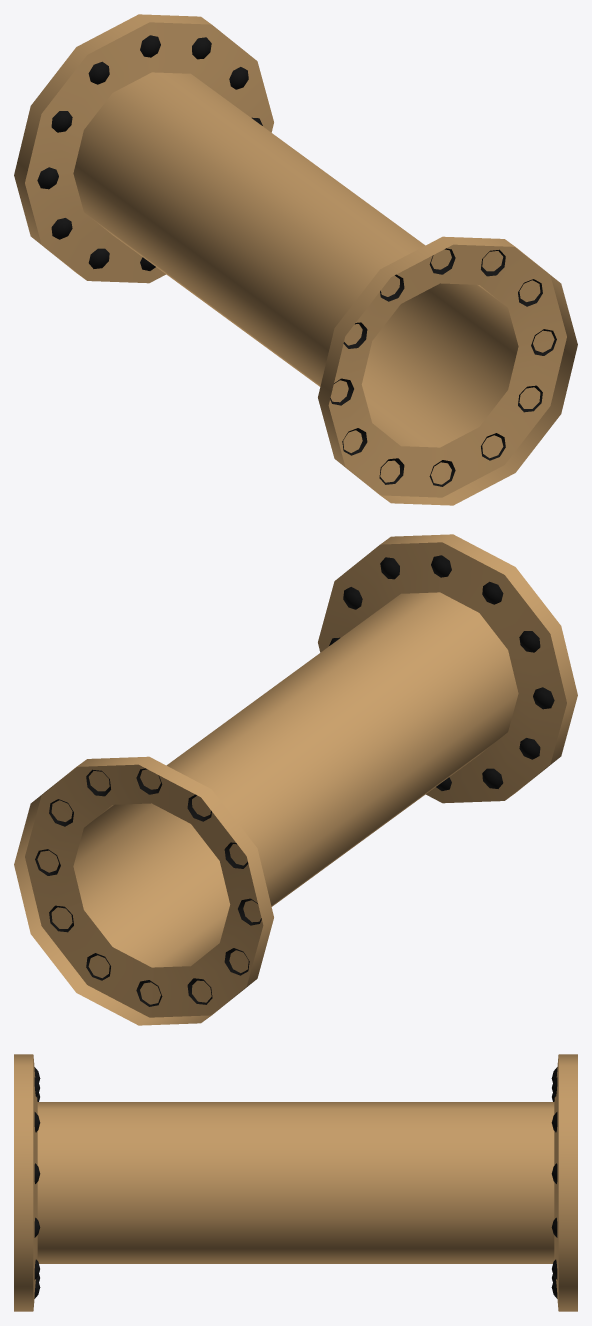
File: straightPipe_mesh.fbx
The picture shows the model from 3 angles, top to bottom: view 1: azimuth 30°, elevation 25°; view 2: azimuth 150°, elevation 25°; view 3: azimuth 270°, elevation 25°; orthographic projection. The views are drawn at different scales.
Parts seen in each view (by area): view 1: straightPipe; view 2: straightPipe; view 3: straightPipe.
Part boxes in pixels (bbox=[...]): straightPipe: bbox=[14, 14, 577, 505]; straightPipe: bbox=[14, 534, 577, 1025]; straightPipe: bbox=[14, 1054, 577, 1311].
Size of the model in its own units: 0.4576 by 0.4576 by 1.
